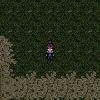Victim: (44, 40, 56, 61)
